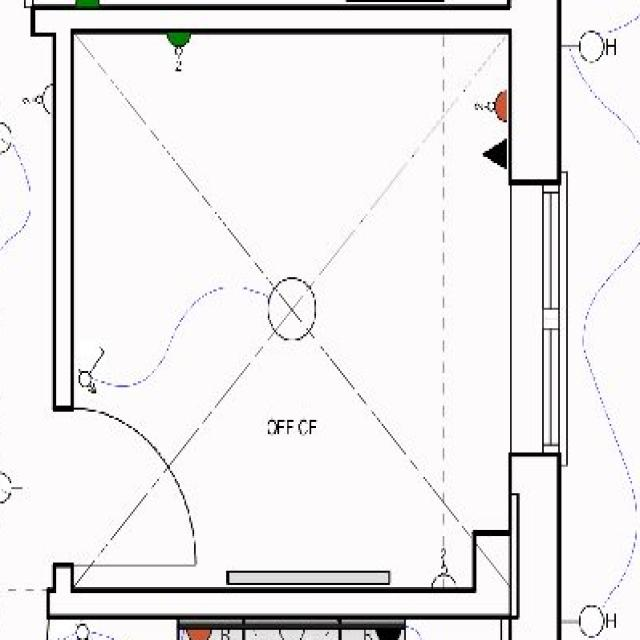Doors: (60, 399, 202, 573)
